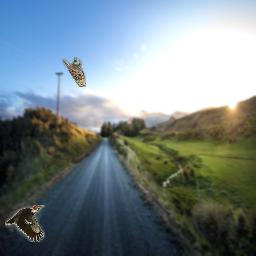Sparrow: (62, 57, 86, 87)
Woodpecker: (5, 205, 45, 242)
